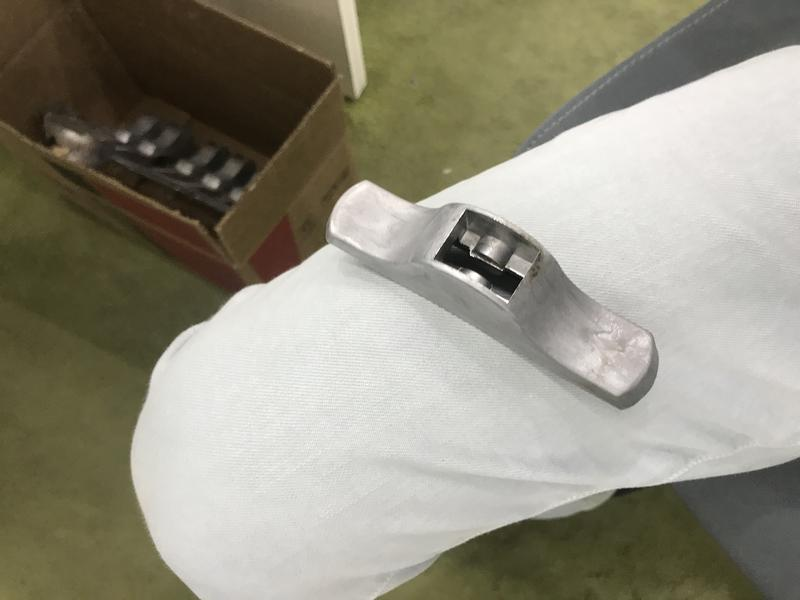zapchast: (318, 168, 666, 442)
